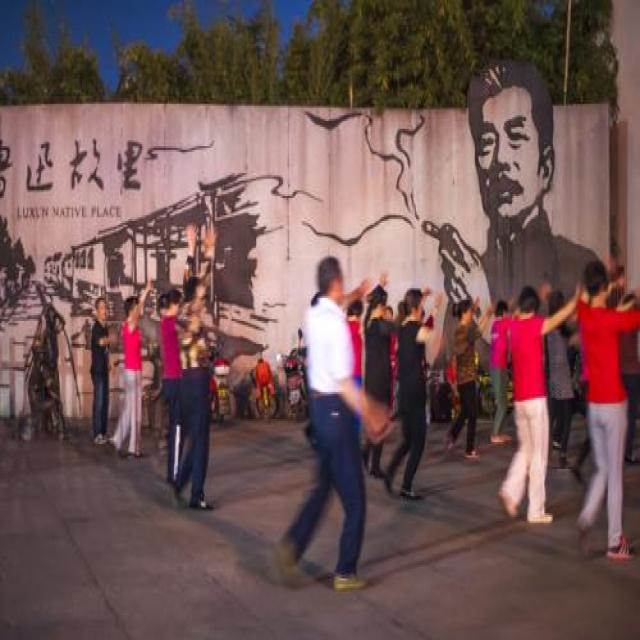non-fight: (276, 254, 392, 590), (495, 279, 581, 524), (576, 257, 640, 562), (384, 284, 446, 500), (169, 272, 216, 508), (448, 295, 494, 459), (112, 280, 151, 458), (158, 300, 184, 484), (90, 297, 116, 445)
